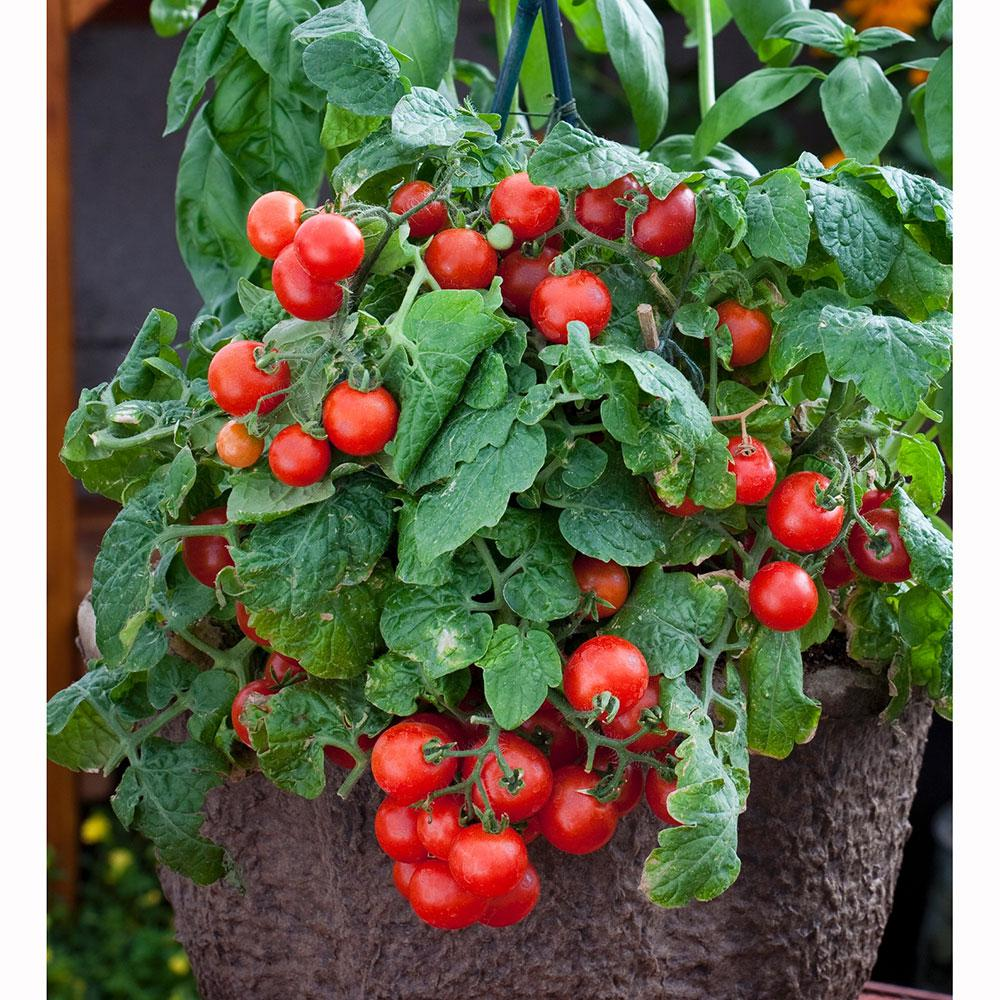tomato: (463, 737, 554, 824), (566, 634, 649, 718), (445, 816, 530, 898), (540, 769, 619, 856), (208, 339, 293, 418), (369, 724, 458, 798), (766, 472, 842, 551), (324, 381, 399, 459), (269, 246, 345, 321), (528, 271, 610, 339), (419, 227, 499, 292), (852, 507, 917, 586), (295, 213, 366, 284), (749, 562, 819, 633), (851, 507, 916, 583), (410, 862, 484, 928), (490, 174, 560, 242), (242, 189, 305, 260), (633, 183, 693, 254), (181, 510, 236, 587), (575, 174, 639, 240), (714, 300, 770, 371), (574, 557, 631, 622), (725, 436, 775, 510), (269, 425, 328, 486), (389, 180, 445, 237), (217, 418, 263, 468)
